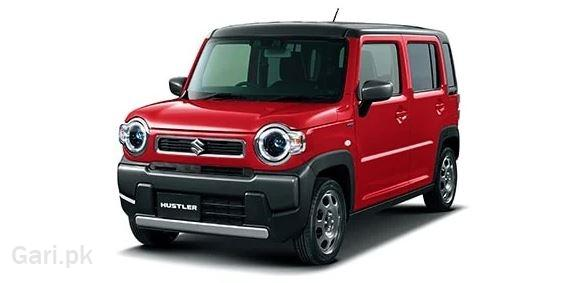Hatchback: (97, 3, 473, 270)
